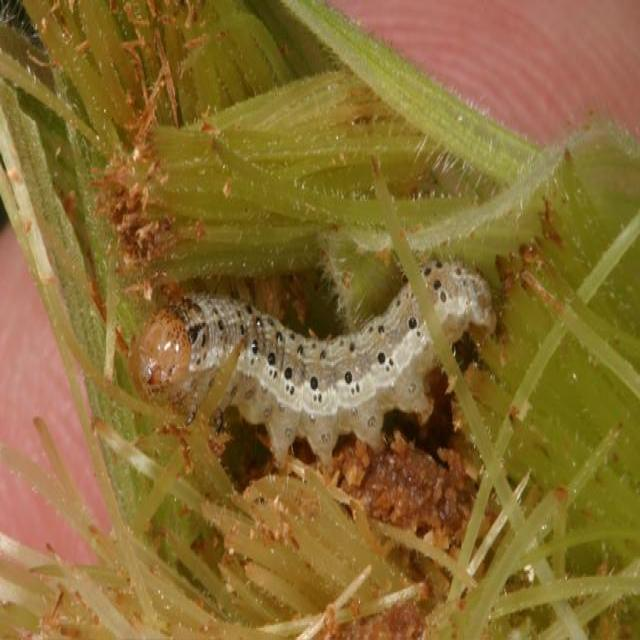Corn-earworm: (130, 260, 507, 472)
